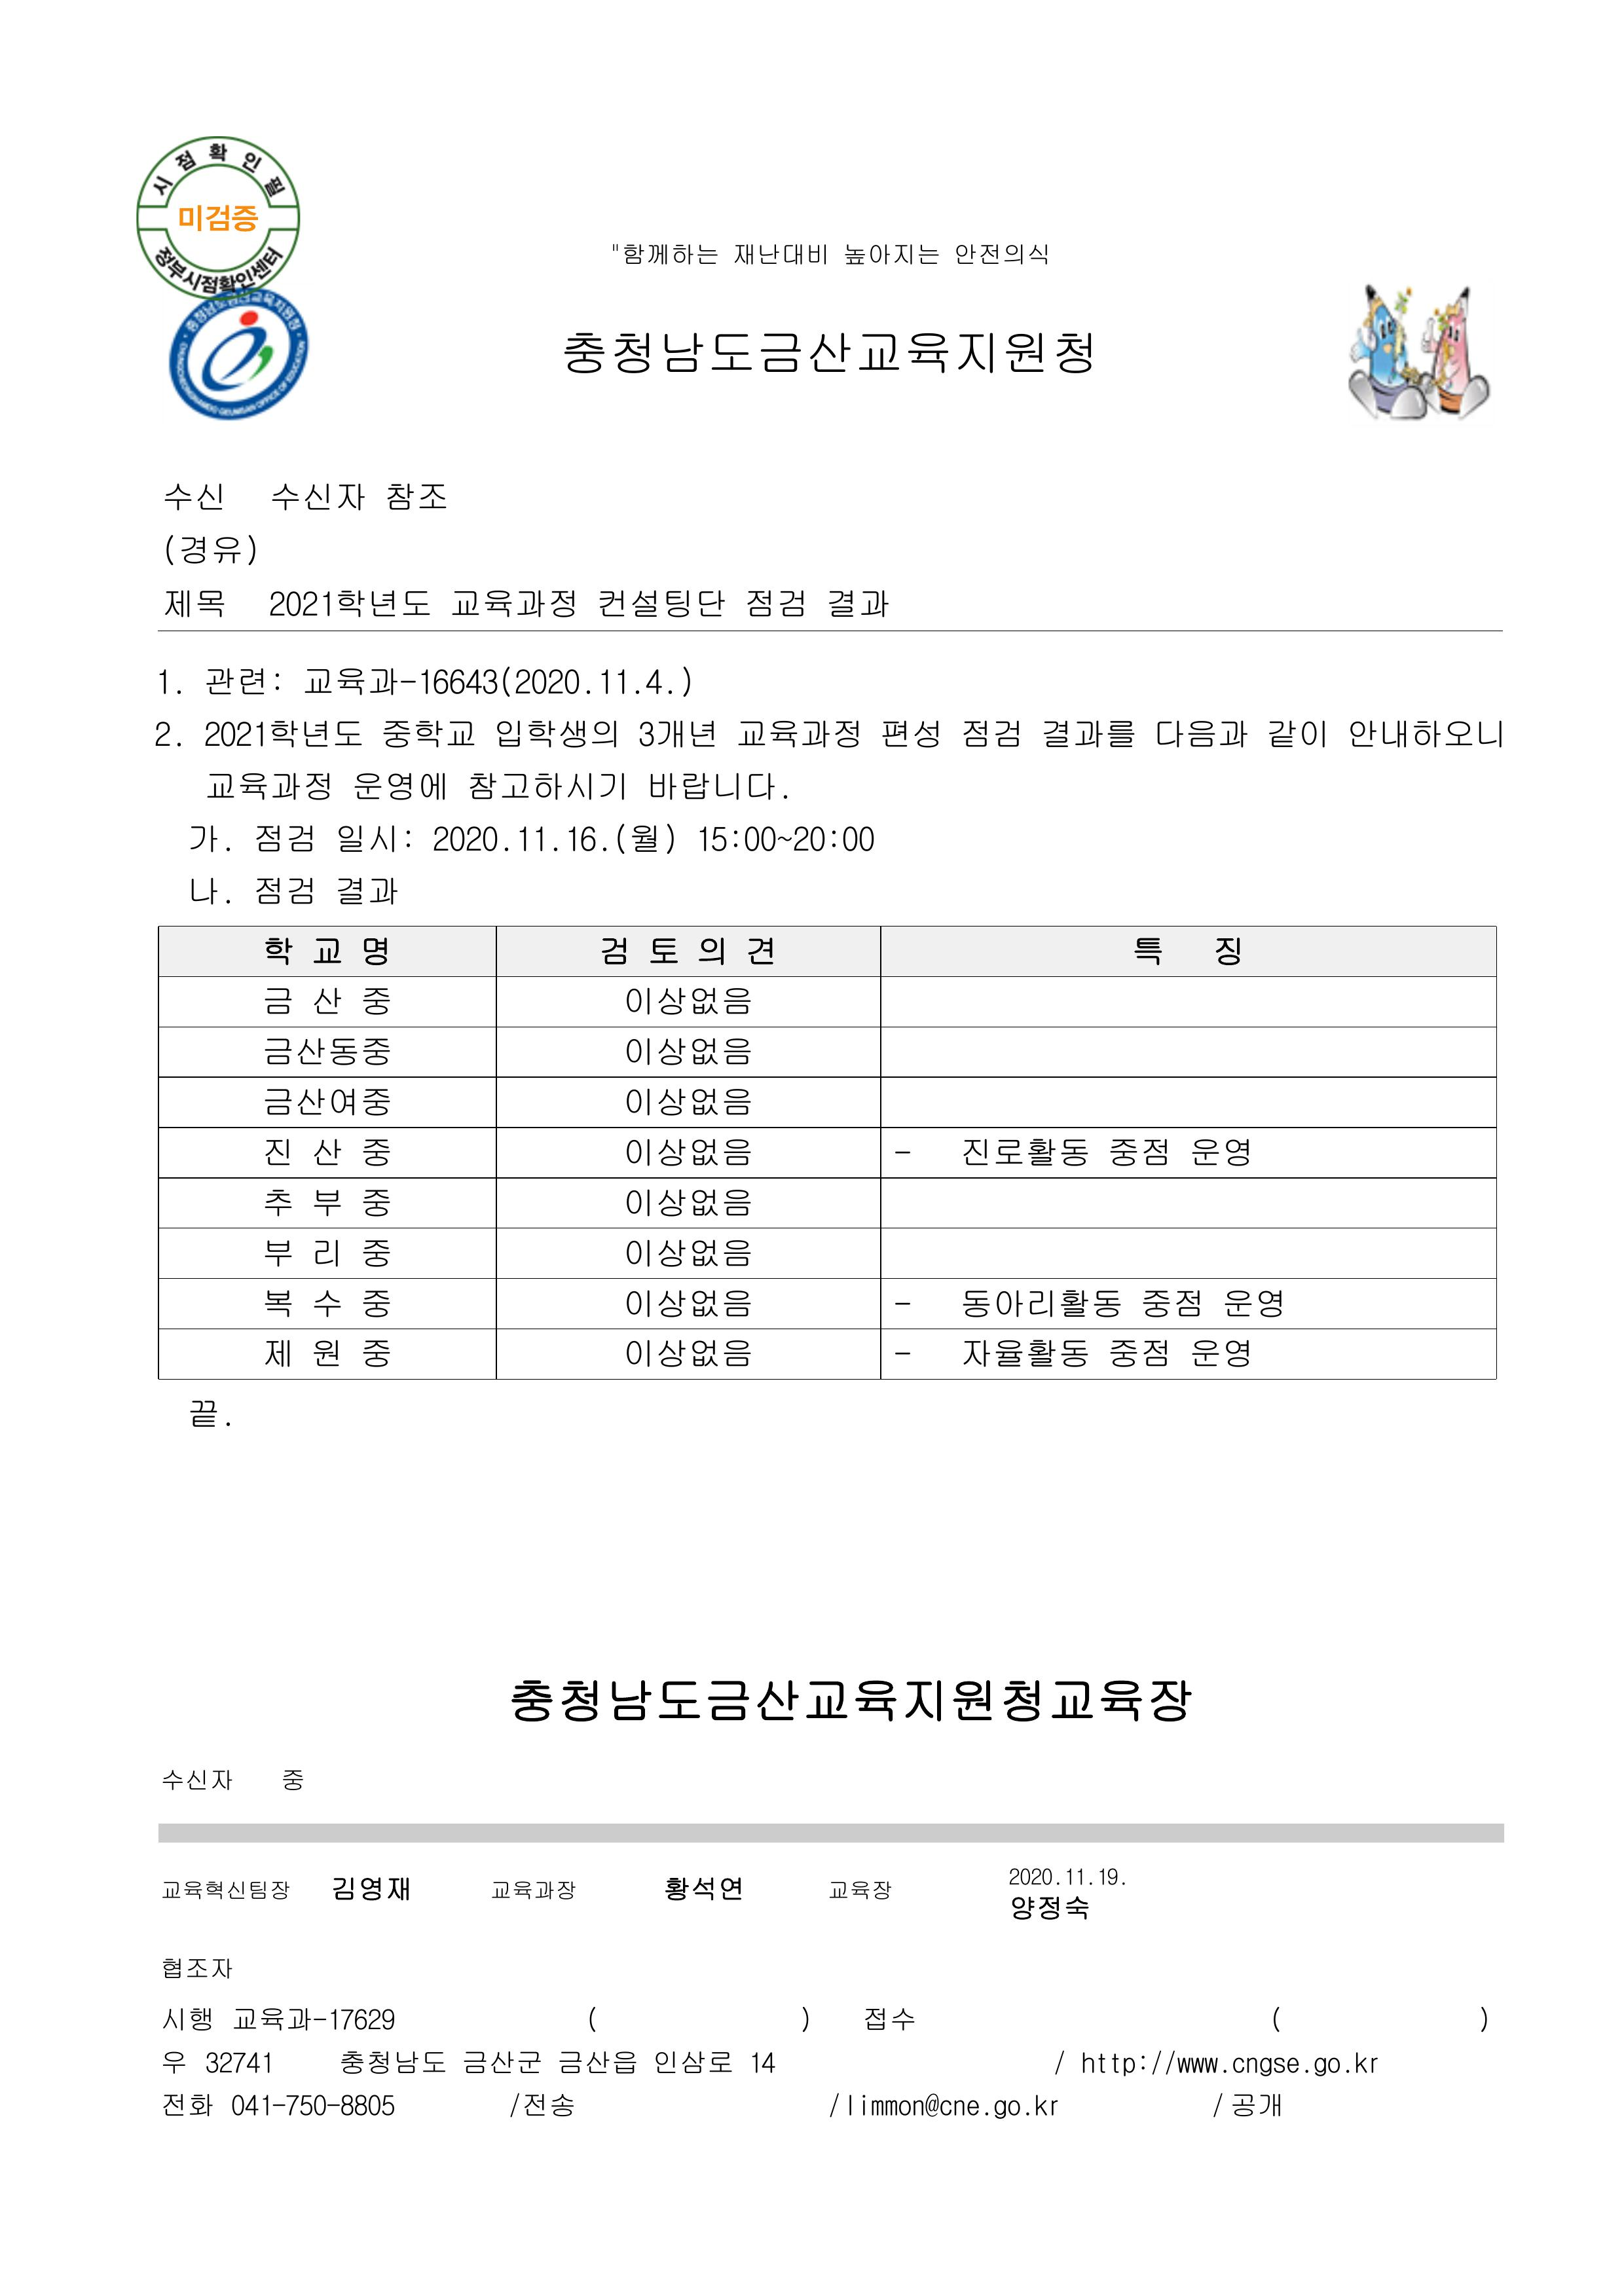t: (508, 1675, 1193, 1727), (562, 327, 1097, 380), (301, 662, 596, 699), (958, 1283, 1207, 1323), (958, 1334, 1172, 1371), (265, 583, 431, 624), (691, 821, 879, 856), (599, 931, 773, 968), (466, 766, 627, 803), (490, 713, 620, 754), (1345, 717, 1506, 749), (431, 817, 568, 854), (624, 1183, 749, 1223), (624, 1283, 749, 1323), (645, 766, 780, 803), (596, 583, 728, 620), (624, 1234, 749, 1272), (624, 1334, 749, 1372), (204, 766, 334, 803), (958, 1133, 1093, 1169), (228, 2005, 397, 2033), (262, 1334, 390, 1371), (735, 717, 861, 754), (452, 583, 576, 620), (262, 1033, 390, 1068), (262, 1082, 390, 1118), (624, 982, 749, 1017), (624, 1033, 749, 1068), (624, 1082, 749, 1118), (624, 1133, 749, 1169), (1151, 713, 1251, 754), (156, 531, 258, 569), (380, 713, 476, 754), (337, 2044, 448, 2079), (1040, 713, 1134, 754), (269, 476, 369, 513), (596, 662, 696, 699), (352, 766, 452, 803), (265, 713, 366, 749), (162, 1879, 294, 1905), (262, 982, 355, 1017), (262, 930, 353, 965), (262, 1183, 348, 1220), (262, 1133, 352, 1169), (176, 200, 258, 237), (204, 662, 286, 699), (861, 2095, 982, 2119), (337, 821, 417, 856), (329, 1871, 411, 1905), (663, 1871, 745, 1905), (459, 2044, 545, 2075), (552, 2044, 638, 2075), (649, 2047, 735, 2079), (228, 2095, 337, 2119), (634, 717, 717, 749), (1007, 1893, 1090, 1924), (1100, 1133, 1172, 1169), (380, 476, 448, 513), (200, 717, 269, 754), (842, 244, 944, 269), (731, 244, 831, 269), (610, 821, 678, 856), (162, 583, 227, 620), (742, 583, 807, 620), (1265, 717, 1330, 754), (624, 244, 721, 269), (251, 875, 318, 910), (1186, 1133, 1251, 1169), (490, 1879, 576, 1905), (251, 821, 315, 856), (506, 2088, 576, 2119), (162, 480, 227, 513), (1186, 1337, 1251, 1371), (824, 589, 893, 620), (162, 1764, 237, 1792), (879, 717, 944, 749), (958, 717, 1021, 749), (334, 875, 397, 907), (1220, 1288, 1283, 1320), (337, 2089, 397, 2119), (204, 2051, 276, 2075), (1079, 2051, 1151, 2075), (861, 2000, 914, 2033), (162, 1958, 232, 1982), (1230, 2054, 1301, 2079), (828, 1879, 893, 1905), (562, 821, 610, 856), (162, 2089, 214, 2119), (1230, 2089, 1283, 2119), (1000, 239, 1051, 269), (308, 1283, 348, 1320), (162, 2005, 214, 2033), (186, 872, 227, 907), (186, 821, 227, 854), (1137, 938, 1186, 965), (308, 1234, 344, 1269), (262, 1283, 297, 1320), (355, 982, 390, 1017), (262, 1234, 297, 1269), (1165, 2054, 1223, 2075), (990, 2096, 1035, 2123), (355, 1186, 390, 1220), (953, 244, 1000, 269), (359, 931, 390, 968), (1207, 935, 1241, 968), (355, 1137, 390, 1169), (359, 1234, 390, 1269), (355, 1288, 390, 1320), (186, 1395, 218, 1430), (1007, 1868, 1058, 1889), (745, 2047, 779, 2075), (1313, 2054, 1345, 2079), (156, 720, 179, 749), (1033, 2096, 1062, 2119), (1352, 2054, 1380, 2075), (156, 671, 179, 696), (1097, 1868, 1123, 1889), (283, 1768, 304, 1792), (1065, 1868, 1090, 1889)
